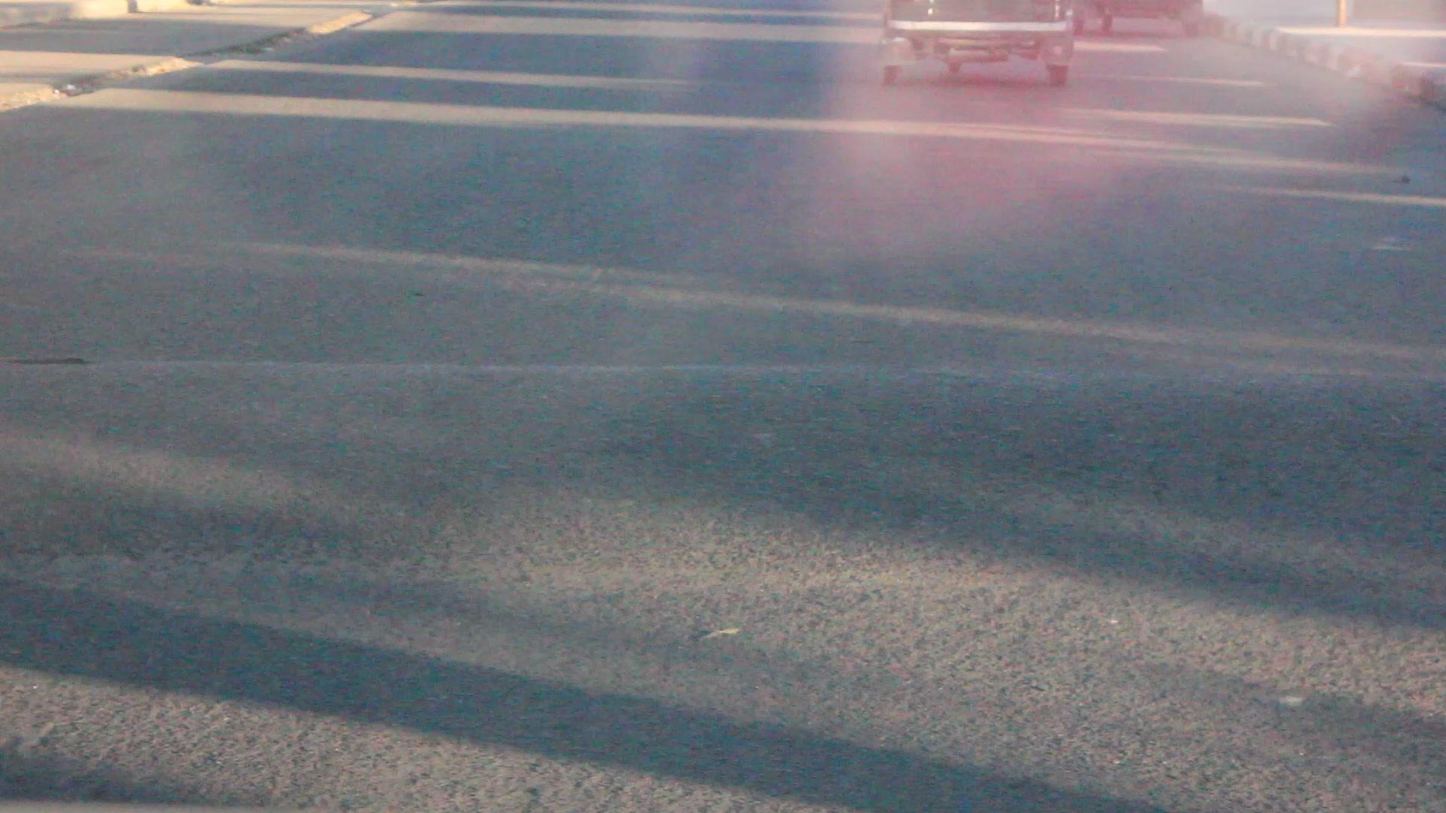Bump: (4, 329, 1446, 533)
